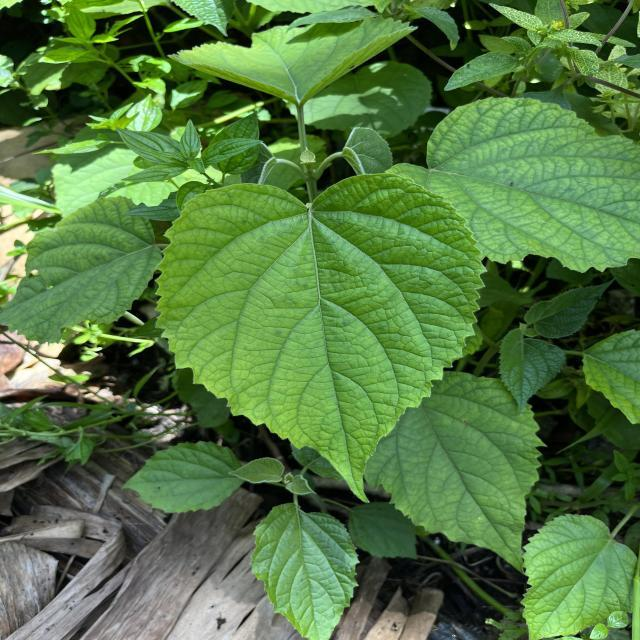Clerodendrum infortunatum: (152, 168, 494, 508), (380, 94, 640, 277), (364, 368, 550, 580), (0, 194, 164, 349)
